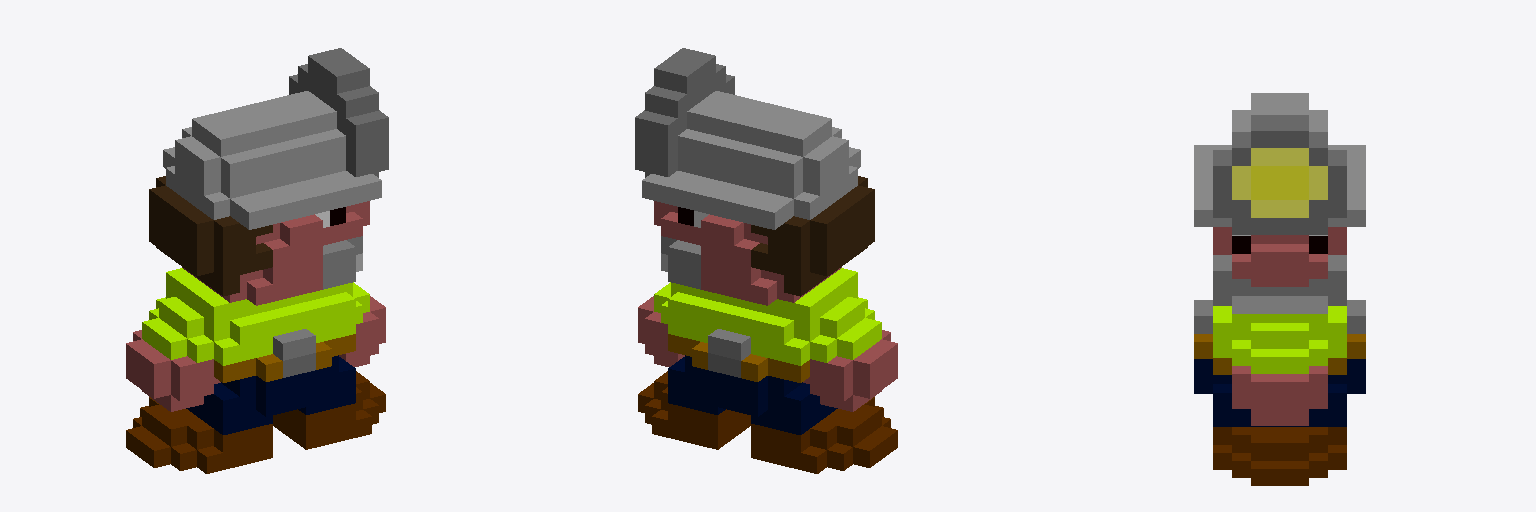
The picture shows the model from 3 angles: view 1: azimuth 30°, elevation 25°; view 2: azimuth 150°, elevation 25°; view 3: azimuth 270°, elevation 25°; orthographic projection.
Bounding box in the file's own units: 14 × 20 × 9.
Materials: 1 (1 with a texture image).